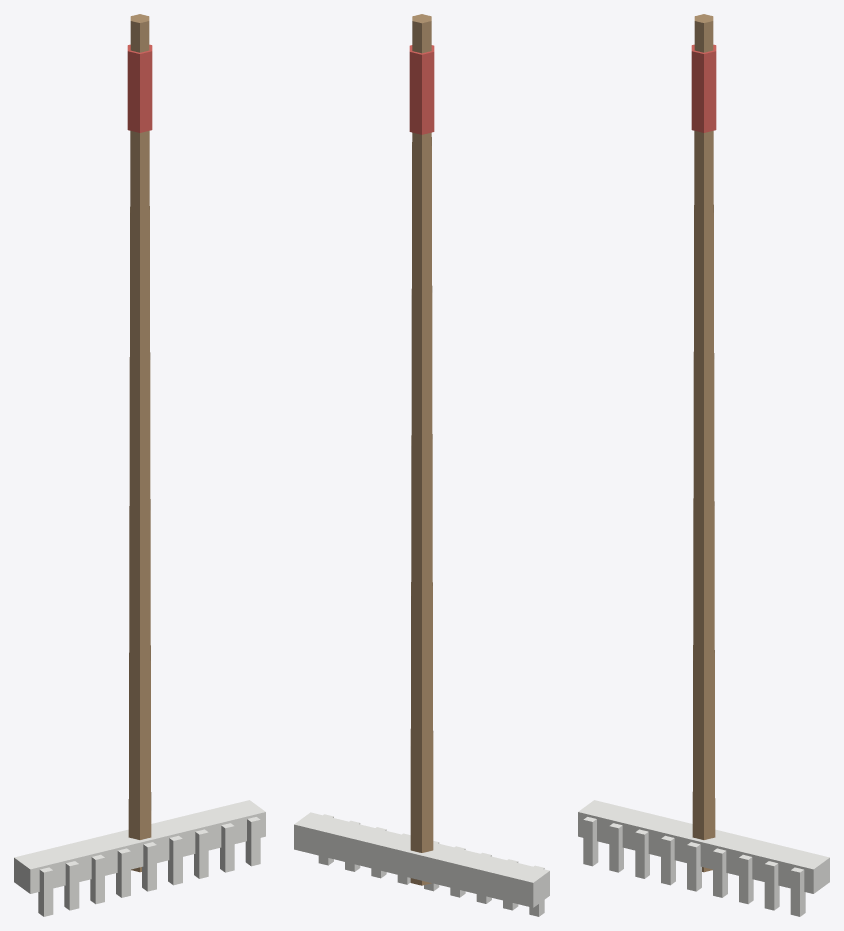
Rendered from golf-course-and-clubhouse-sand-rake-d943ab92__33502.glb.
3 renders of one model, left to right at view 1: azimuth 30°, elevation 25°; view 2: azimuth 150°, elevation 25°; view 3: azimuth 330°, elevation 25°, orthographic.
Visible parts, largest first — view 1: sand-rake; view 2: sand-rake; view 3: sand-rake.
Part boxes in pixels (bbox=[...]): sand-rake: bbox=[14, 14, 265, 916]; sand-rake: bbox=[294, 14, 549, 916]; sand-rake: bbox=[578, 14, 829, 916].
Size of the model in its own units: 0.5 by 1.75 by 0.075.
